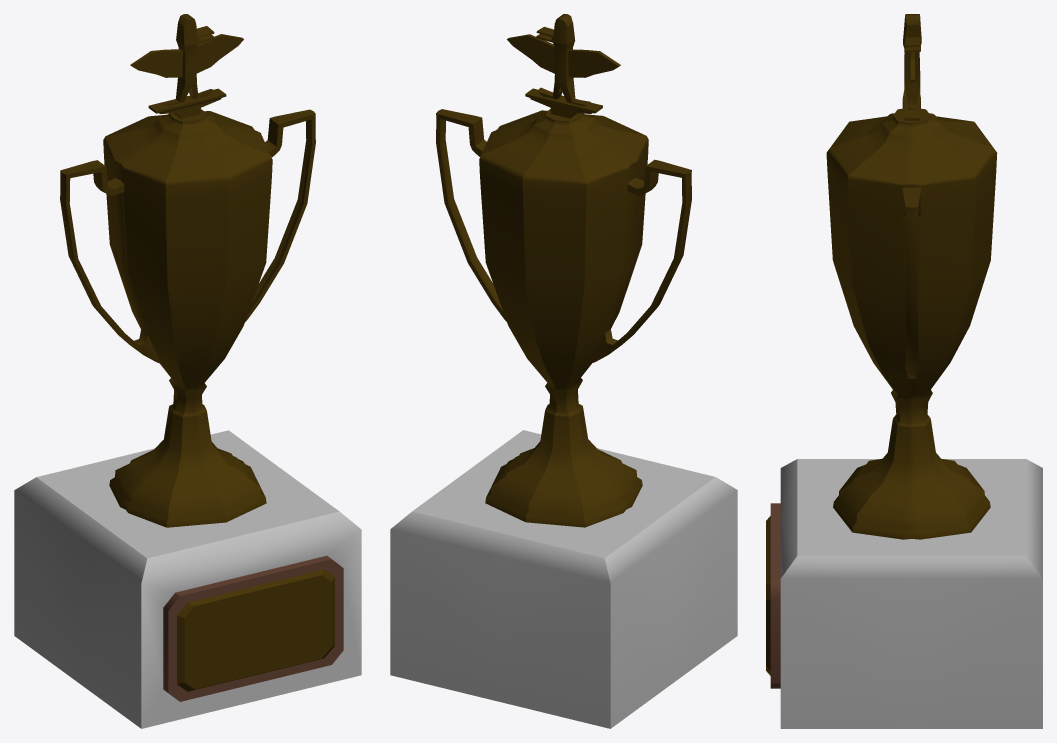
Rendered from Trophy.fbx.
3 renders of one model, left to right at view 1: azimuth 30°, elevation 25°; view 2: azimuth 150°, elevation 25°; view 3: azimuth 270°, elevation 25°, orthographic. The views are drawn at different scales.
Visible parts, largest first — view 1: pasted__pCube33; view 2: pasted__pCube33; view 3: pasted__pCube33.
Boxes of the visible parts, x1=… form: pasted__pCube33: x1=14, y1=14, x2=361, y2=728; pasted__pCube33: x1=390, y1=14, x2=737, y2=728; pasted__pCube33: x1=766, y1=14, x2=1042, y2=728.
Bounding box in the file's own units: 0.5155 × 1.25 × 0.4758.
